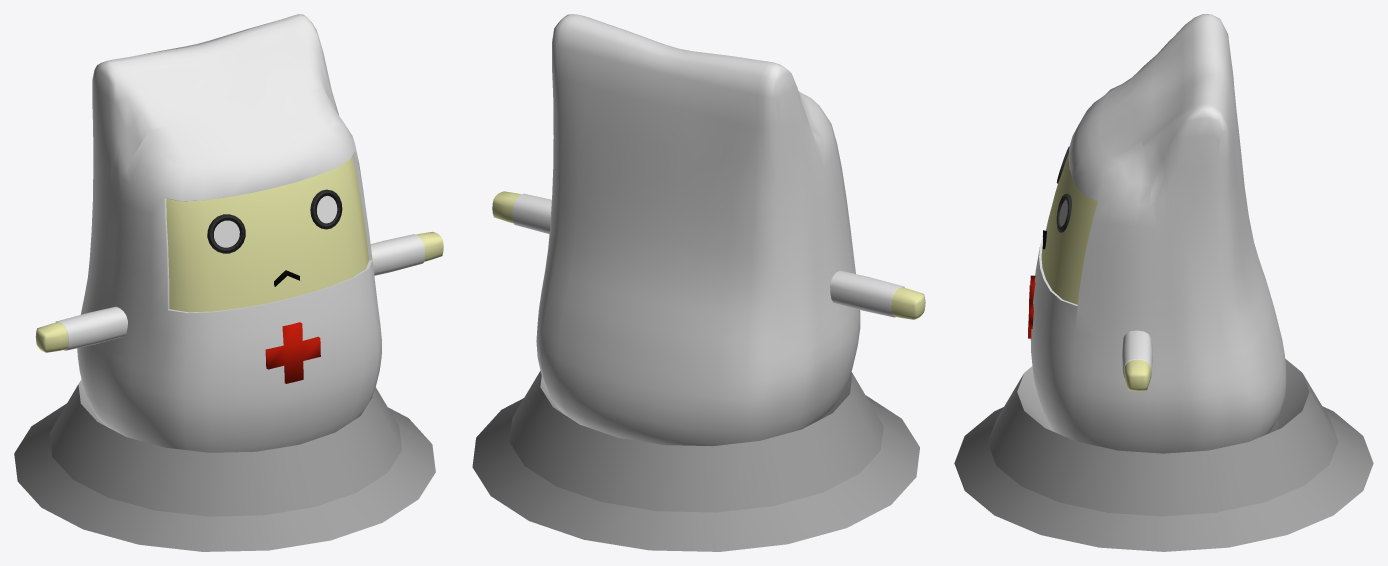
The model's file is alienMedic.fbx.
The picture shows the model from 3 angles, left to right: view 1: azimuth 30°, elevation 25°; view 2: azimuth 150°, elevation 25°; view 3: azimuth 270°, elevation 25°; orthographic projection. The views are drawn at different scales.
Parts seen in each view (by area): view 1: polySurface147; view 2: polySurface147; view 3: polySurface147.
Part boxes in pixels (bbox=[...]): polySurface147: bbox=[14, 14, 443, 551]; polySurface147: bbox=[472, 14, 925, 551]; polySurface147: bbox=[954, 14, 1373, 551].
Bounding box in the file's own units: 192 × 186 × 175.
